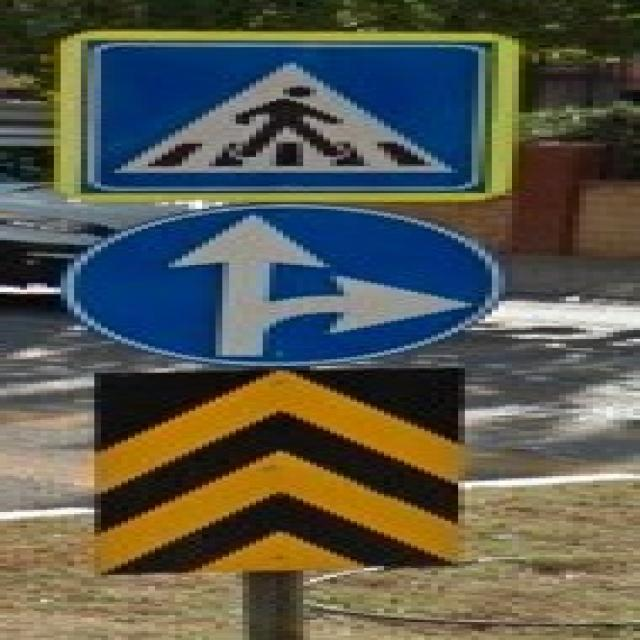Straight or Right: (72, 209, 510, 368)
